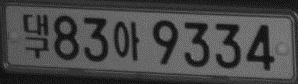3: (183, 21, 210, 67), (82, 16, 108, 62), (215, 22, 241, 68)
4: (245, 24, 275, 71)
8: (53, 14, 79, 59)
9: (152, 19, 179, 65)
대구_V: (22, 13, 49, 59)
아: (113, 20, 140, 61)
